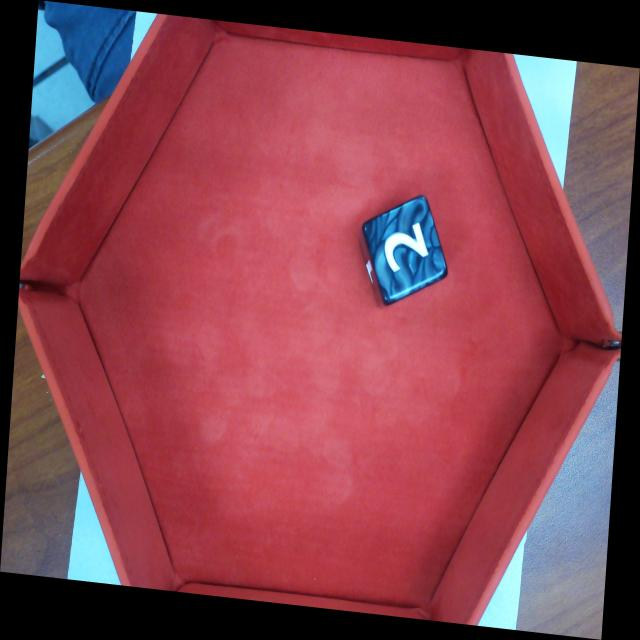dice: (368, 197, 446, 296)
